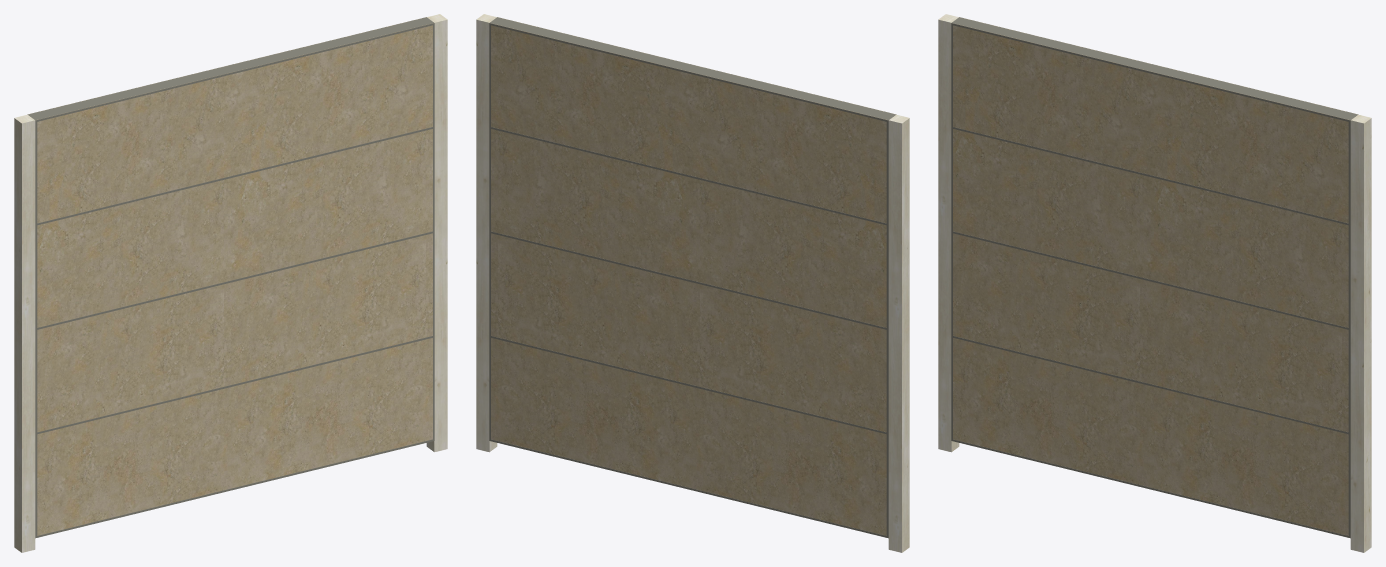
The model's file is ABF1-H1800_travertine.fbx.
3 views of the same model, side by side, from view 1: azimuth 30°, elevation 25°; view 2: azimuth 150°, elevation 25°; view 3: azimuth 330°, elevation 25° (orthographic).
Parts seen in each view (by area): view 1: 1850-1920-60_travertine; view 2: 1850-1920-60_travertine; view 3: 1850-1920-60_travertine.
Part boxes in pixels (x1=…): 1850-1920-60_travertine: x1=14, y1=14, x2=447, y2=552; 1850-1920-60_travertine: x1=476, y1=14, x2=909, y2=552; 1850-1920-60_travertine: x1=938, y1=14, x2=1371, y2=552.
Size of the model in its own units: 192 by 185 by 6.4.
5 materials, 4 textured.
